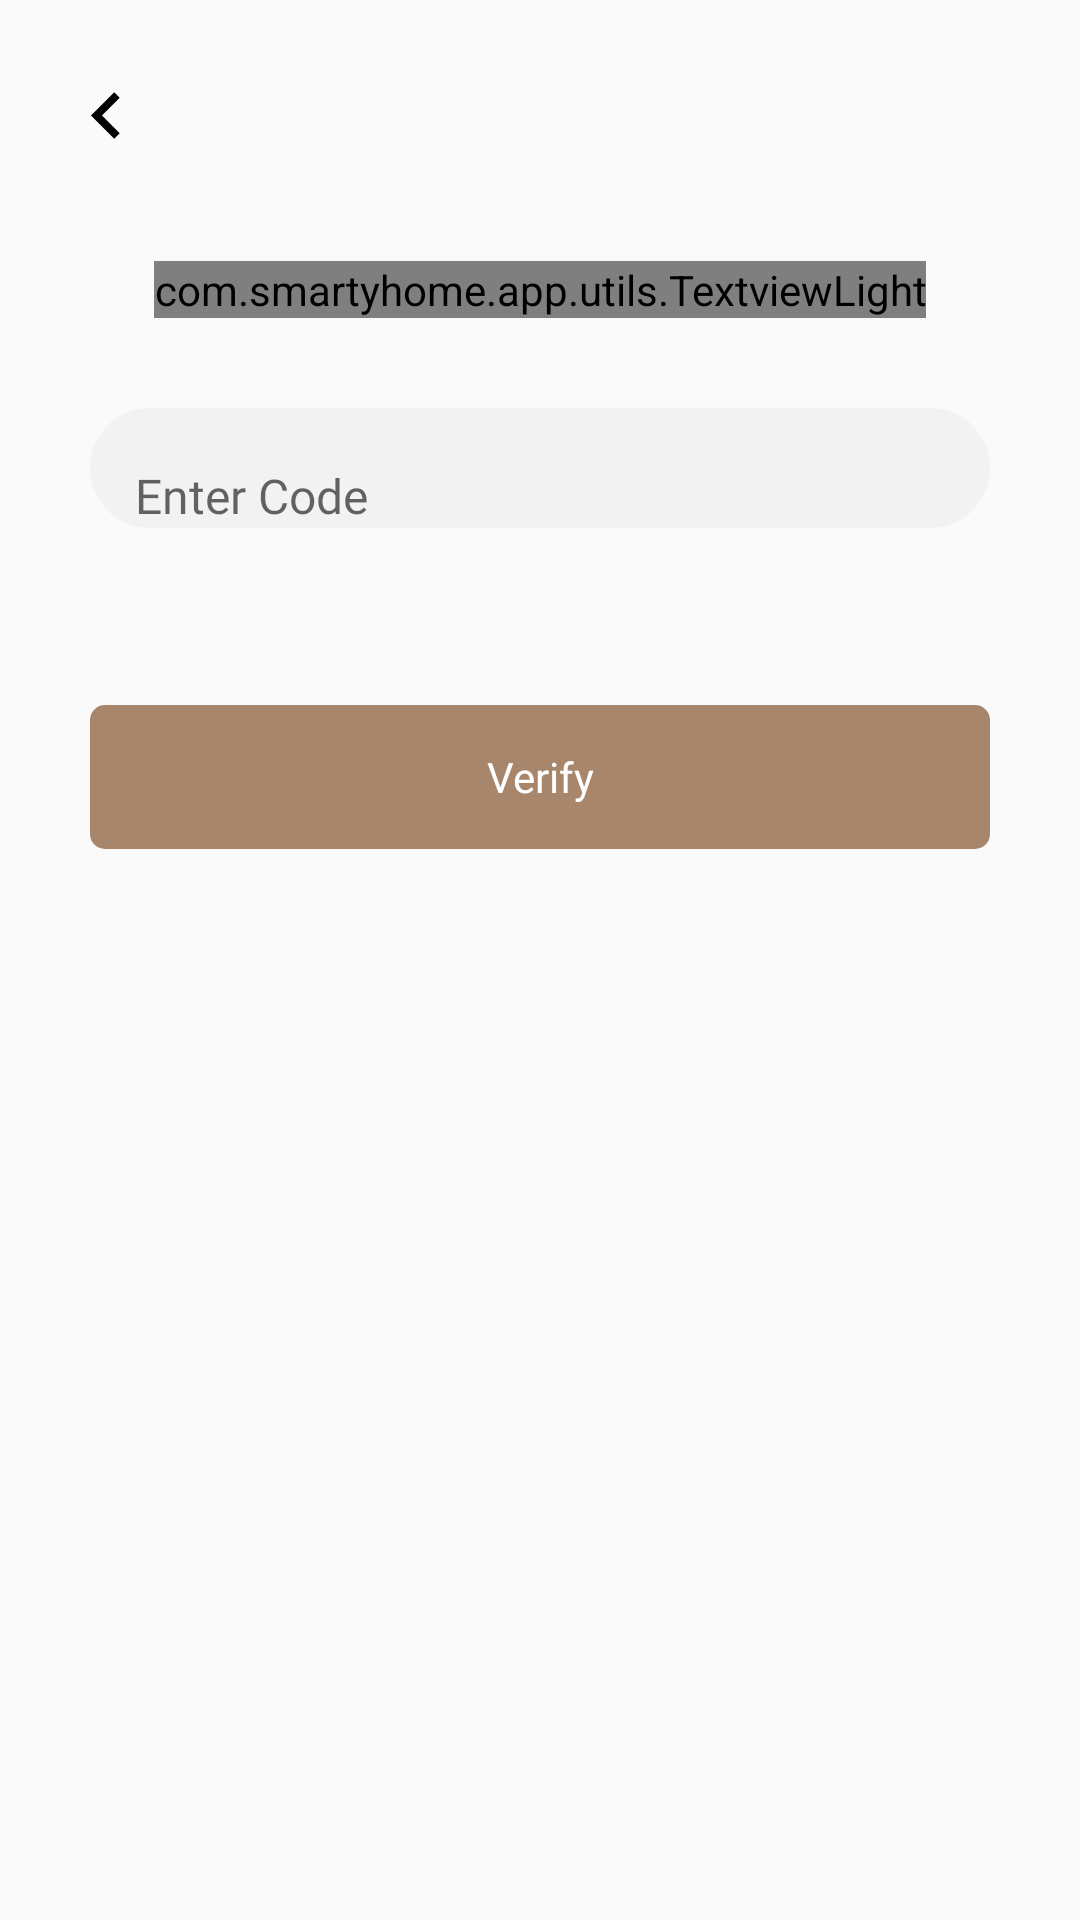

Screen size 1080x1920. Icon name, then its box in pixels as (x1, y1, x2, y2):
back: (91, 92, 120, 139)
